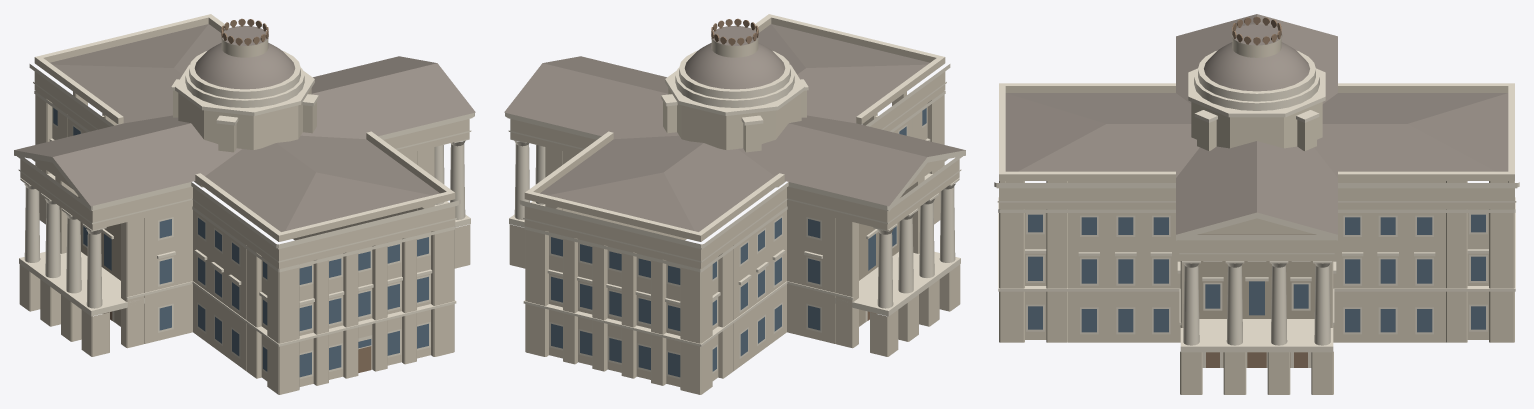
The model's file is ral-nc-state-capitol.glb.
3 views of the same model, side by side, from view 1: azimuth 30°, elevation 25°; view 2: azimuth 150°, elevation 25°; view 3: azimuth 270°, elevation 25° (orthographic). The views are drawn at different scales.
Visible parts, largest first — view 1: North Carolina State Capitol; view 2: North Carolina State Capitol; view 3: North Carolina State Capitol.
Part boxes in pixels (x1=…): North Carolina State Capitol: x1=14, y1=14, x2=475, y2=394; North Carolina State Capitol: x1=504, y1=14, x2=965, y2=394; North Carolina State Capitol: x1=994, y1=14, x2=1519, y2=394.
Size of the model in its own units: 43.7 by 27.75 by 48.9.
